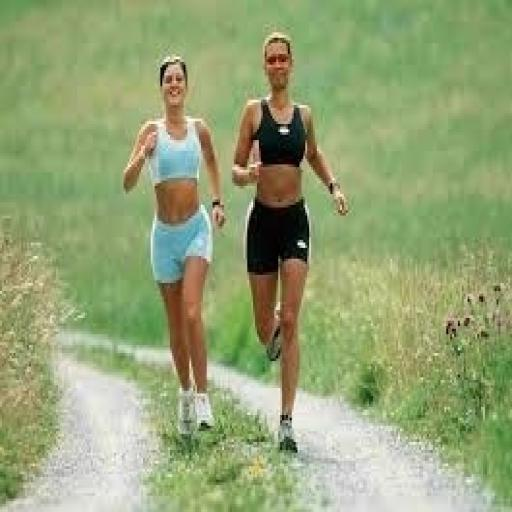running: (230, 30, 352, 458), (120, 51, 228, 439)
